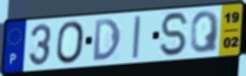3: (27, 22, 52, 67)
D: (92, 17, 122, 63)
I: (130, 14, 142, 61)
O: (56, 19, 87, 65)
Q: (189, 9, 221, 55)
S: (159, 10, 191, 58)
